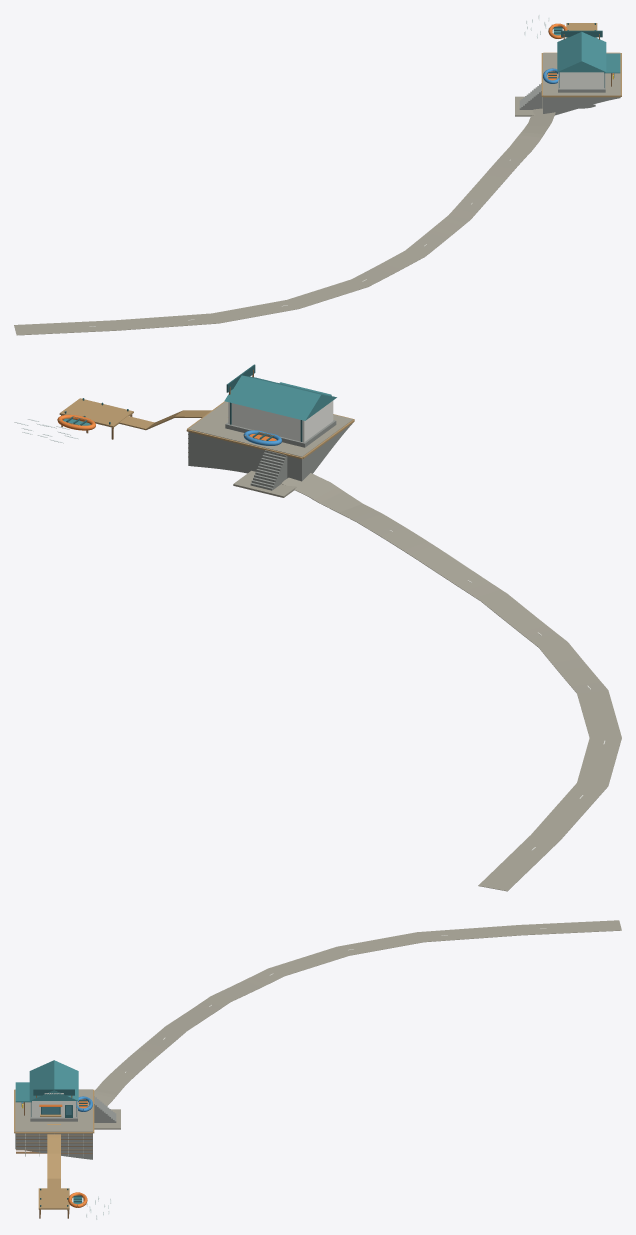
The model's file is rafting-station.glb.
The picture shows the model from 3 angles, top to bottom: view 1: azimuth 90°, elevation 25°; view 2: azimuth 150°, elevation 25°; view 3: azimuth 270°, elevation 25°; orthographic projection. The views are drawn at different scales.
Visible parts, largest first — view 1: rafting_access_road.001, rafting_lodge_roof.001, rafting_terrace.001, rafting_retaining_wall.001, rafting_lodge_body.001; view 2: rafting_access_road.001, rafting_retaining_wall.001, rafting_lodge_roof.001, rafting_lodge_body.001, rafting_terrace.001, rafting_launch_dock.001; view 3: rafting_access_road.001, rafting_lodge_roof.001, rafting_terrace.001, rafting_retaining_wall.001, rafting_launch_boardwalk.001, rafting_launch_dock.001, rafting_lodge_body.001.
Boxes of the visible parts, x1,y1,x2,y2 form: rafting_access_road.001: (14,108,555,335); rafting_lodge_roof.001: (557,32,606,72); rafting_terrace.001: (543,53,620,95); rafting_retaining_wall.001: (543,97,620,115); rafting_lodge_body.001: (559,72,603,88); rafting_access_road.001: (281,473,621,891); rafting_retaining_wall.001: (188,423,352,481); rafting_lodge_roof.001: (224,375,336,420); rafting_lodge_body.001: (228,401,333,442); rafting_terrace.001: (188,401,352,456); rafting_launch_dock.001: (59,398,133,427); rafting_access_road.001: (94,920,621,1105); rafting_lodge_roof.001: (29,1060,78,1100); rafting_terrace.001: (15,1089,92,1131); rafting_retaining_wall.001: (15,1133,92,1159); rafting_launch_boardwalk.001: (47,1124,60,1188); rafting_launch_dock.001: (38,1188,69,1209); rafting_lodge_body.001: (32,1101,76,1117).
Size of the model in its own units: 132 by 13.46 by 109.
